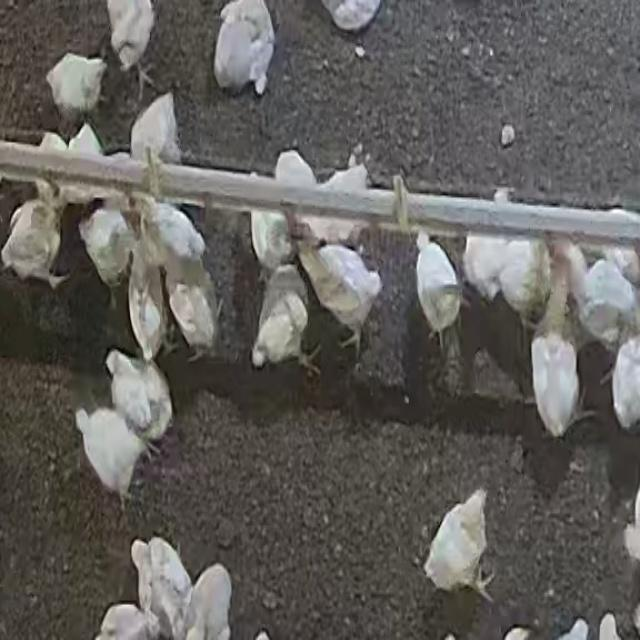chicken: (296, 240, 382, 360), (424, 488, 494, 603), (528, 282, 580, 434), (250, 264, 311, 376), (131, 535, 195, 640), (74, 406, 143, 502), (0, 193, 65, 292), (214, 0, 276, 92), (578, 255, 638, 348), (414, 234, 462, 343), (168, 266, 220, 364), (105, 346, 159, 438), (143, 199, 207, 273), (78, 205, 130, 292), (175, 561, 232, 640), (129, 93, 181, 174), (130, 244, 164, 358), (104, 0, 158, 70), (505, 236, 548, 318), (46, 53, 102, 115), (461, 226, 507, 301), (611, 335, 640, 431), (245, 209, 291, 264), (318, 0, 384, 32)
